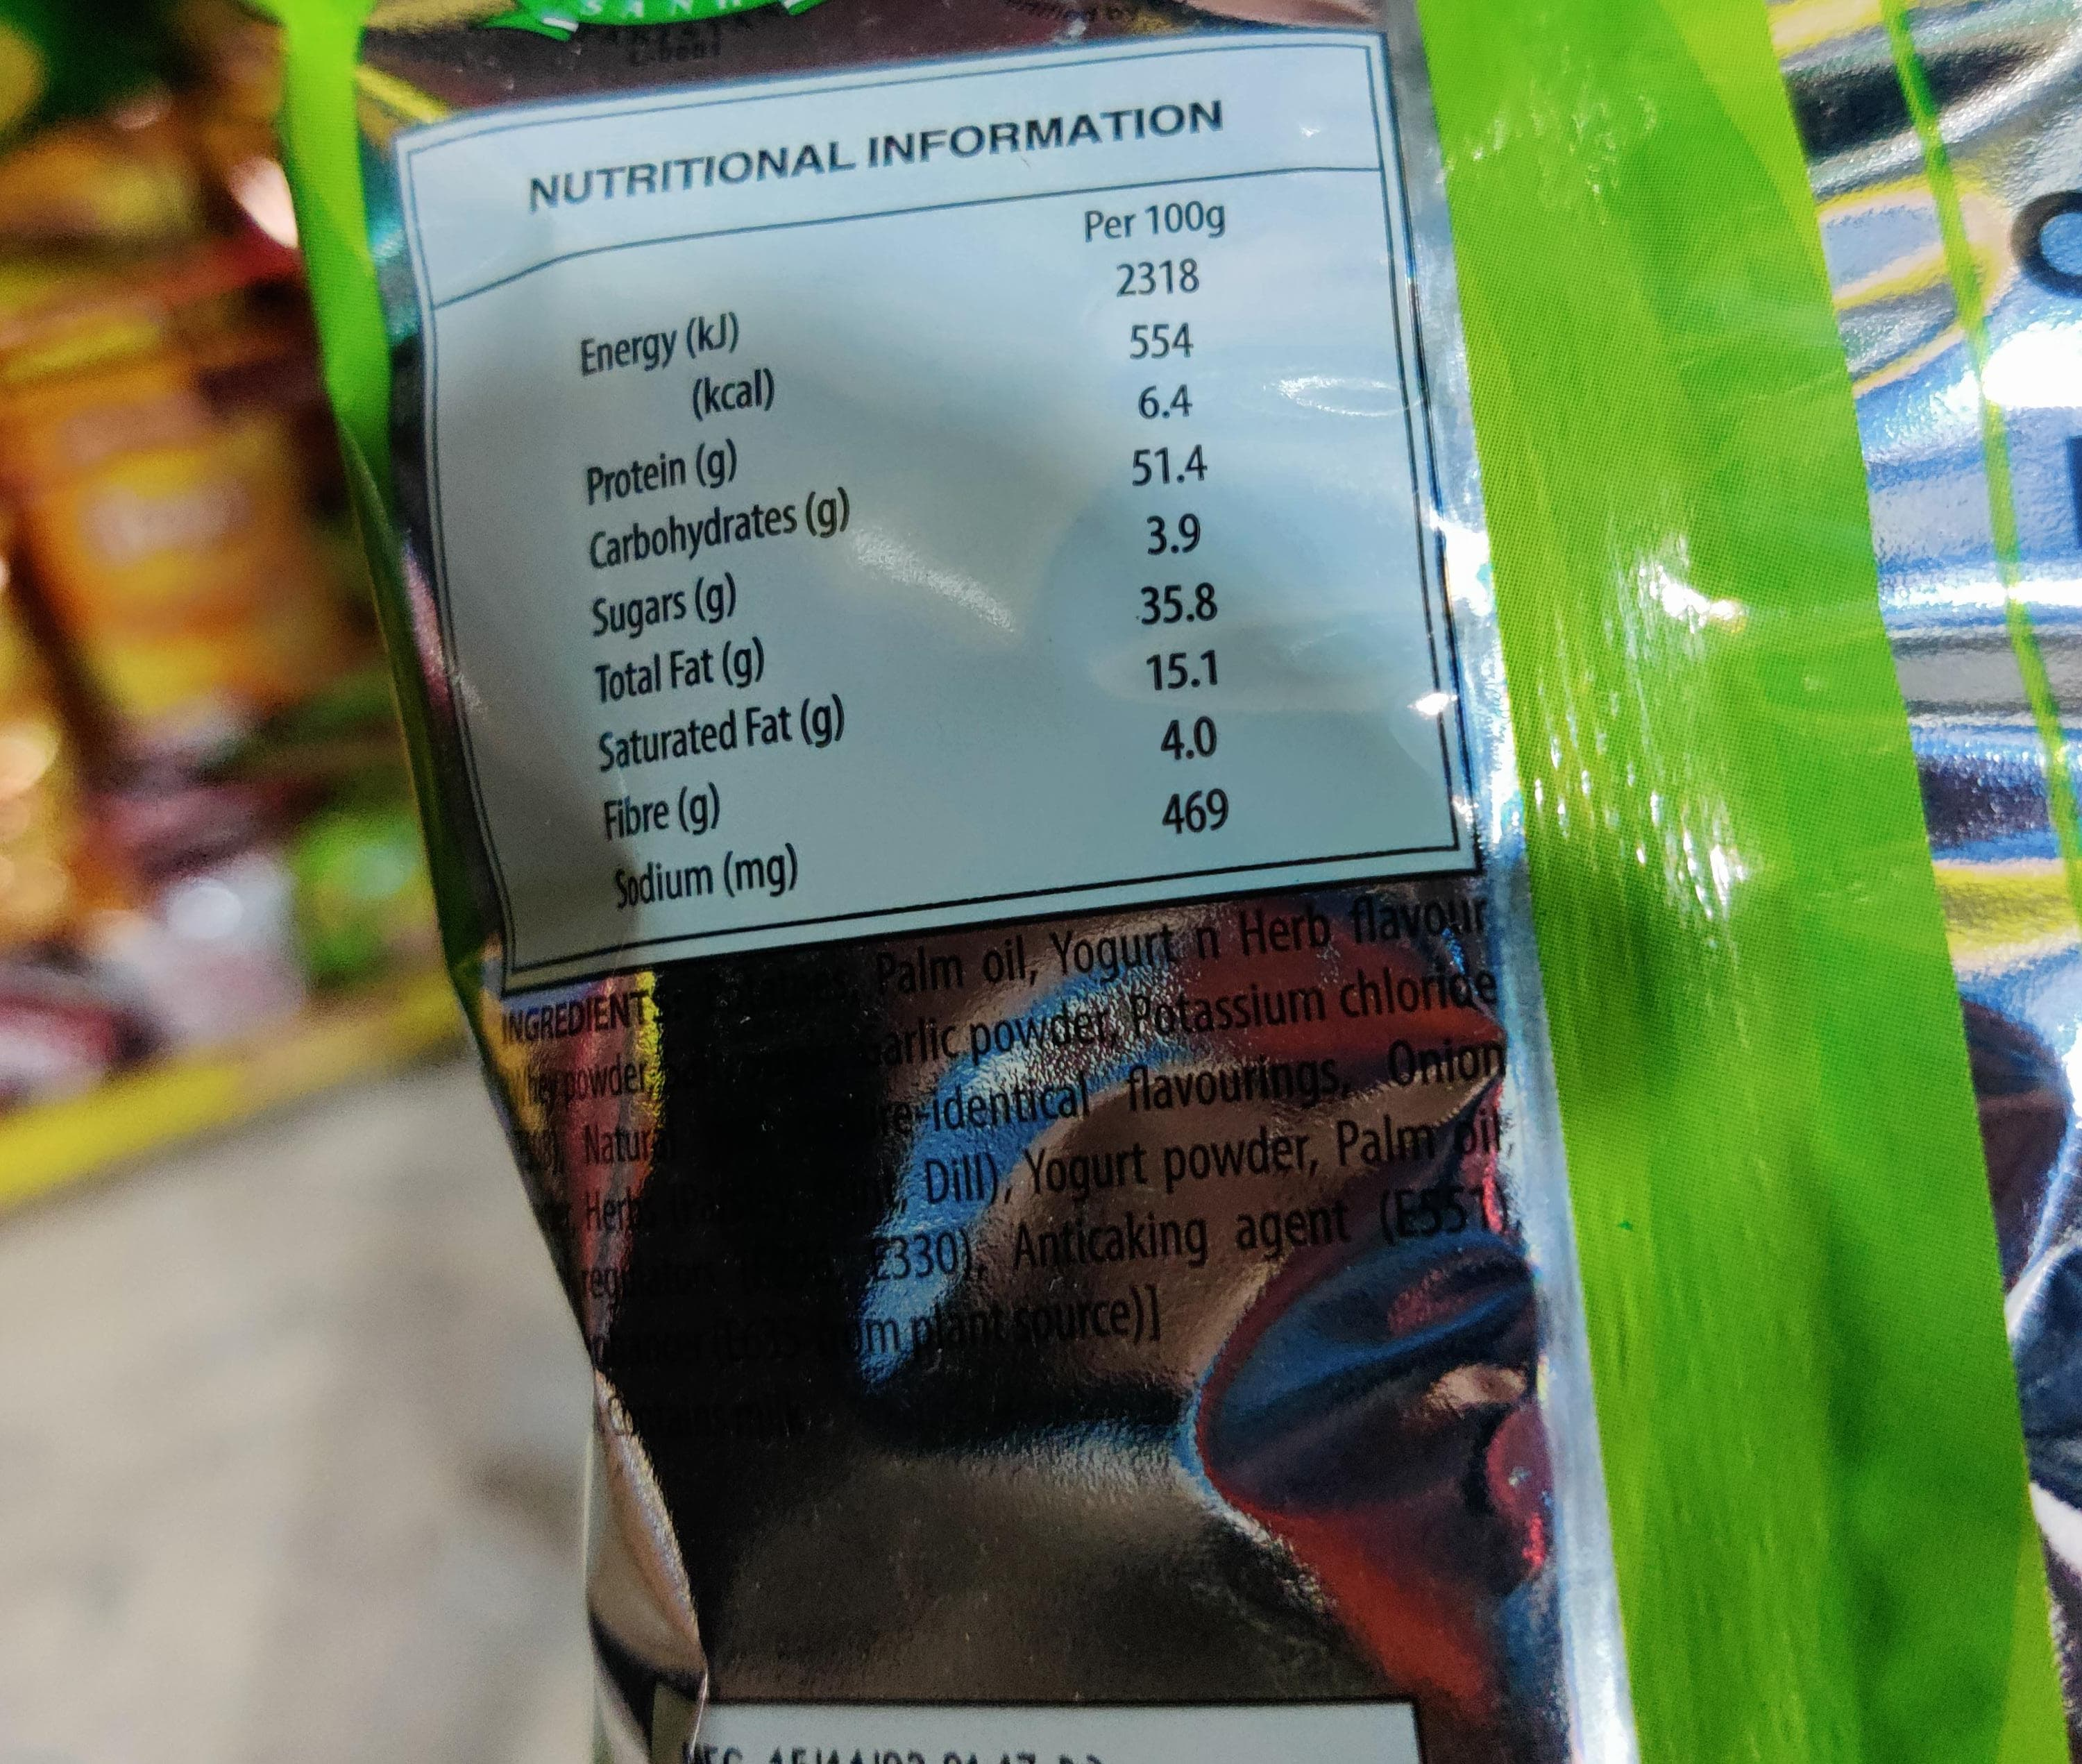table: (399, 23, 1482, 996)
